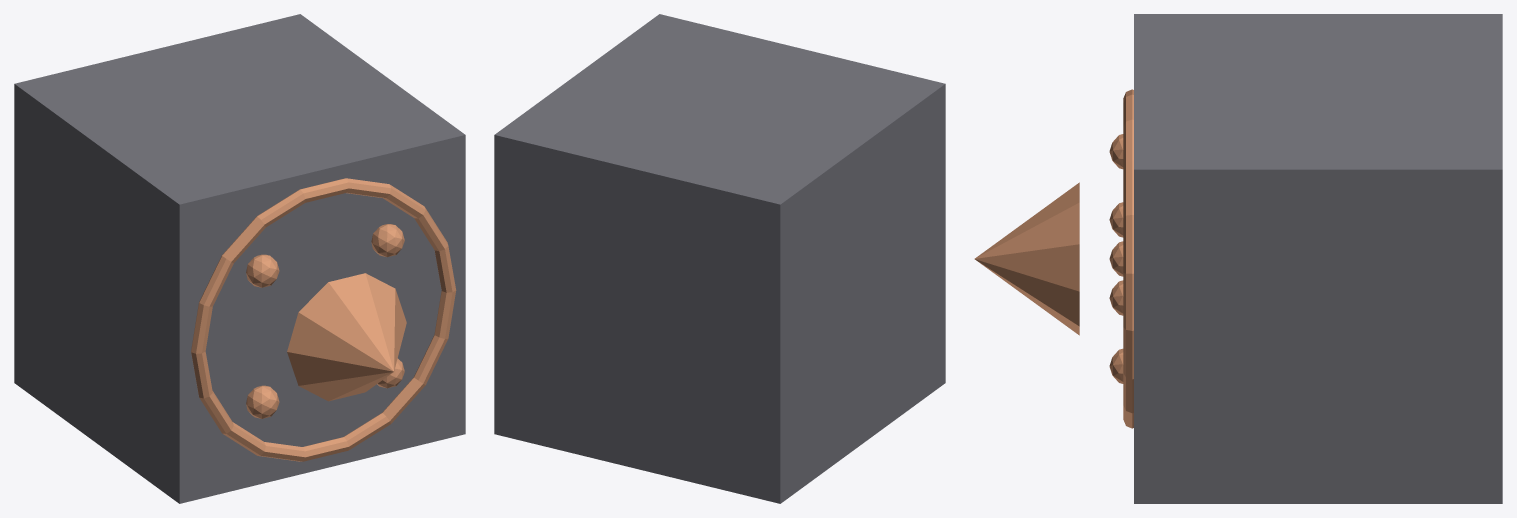
File: mine.glb
The picture shows the model from 3 angles, left to right: view 1: azimuth 30°, elevation 25°; view 2: azimuth 150°, elevation 25°; view 3: azimuth 270°, elevation 25°; orthographic projection. The views are drawn at different scales.
Visible parts, largest first — view 1: world; view 2: world; view 3: world.
Part boxes in pixels (x1,y1,x2,y2): world: [14, 14, 465, 503]; world: [494, 14, 945, 503]; world: [974, 14, 1502, 503].
Size of the model in its own units: 1.05 by 1.05 by 1.5.
